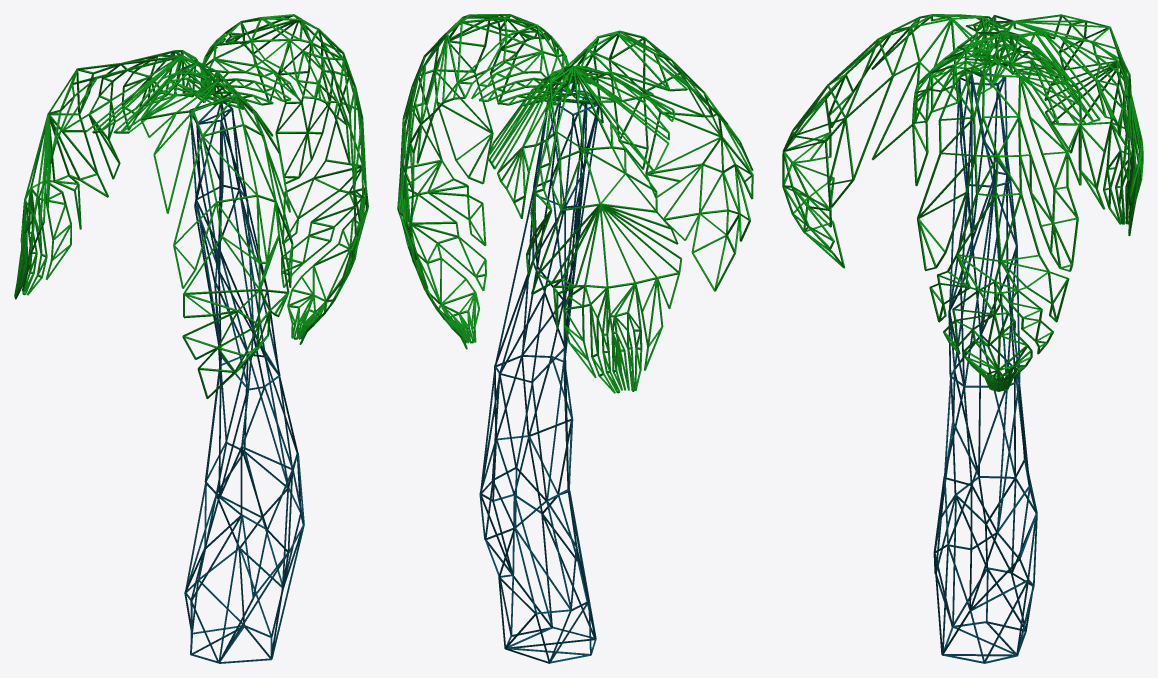
File: palm_wire_6.FBX
3 renders of one model, left to right at view 1: azimuth 30°, elevation 25°; view 2: azimuth 150°, elevation 25°; view 3: azimuth 270°, elevation 25°, orthographic. The views are drawn at different scales.
Visible parts, largest first — view 1: Object001, palm6; view 2: Object001, palm6; view 3: Object001, palm6.
Part boxes in pixels (x1=…): Object001: x1=14, y1=14, x2=368, y2=398; palm6: x1=184, y1=102, x2=316, y2=663; Object001: x1=397, y1=14, x2=753, y2=393; palm6: x1=451, y1=89, x2=599, y2=663; Object001: x1=782, y1=14, x2=1143, y2=391; palm6: x1=933, y1=71, x2=1037, y2=663.
Size of the model in its own units: 7.12 by 7.24 by 13.98.
